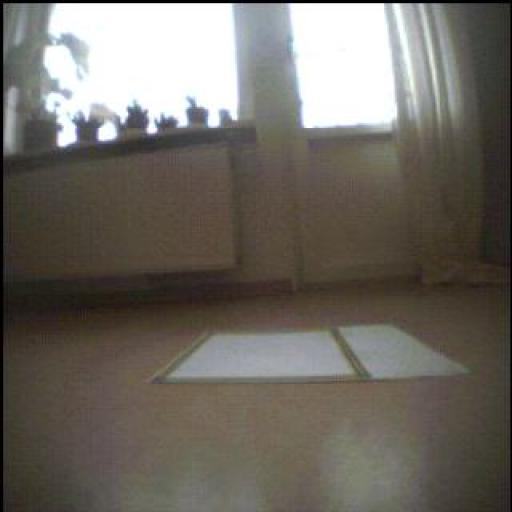Pad: (153, 326, 468, 383)
